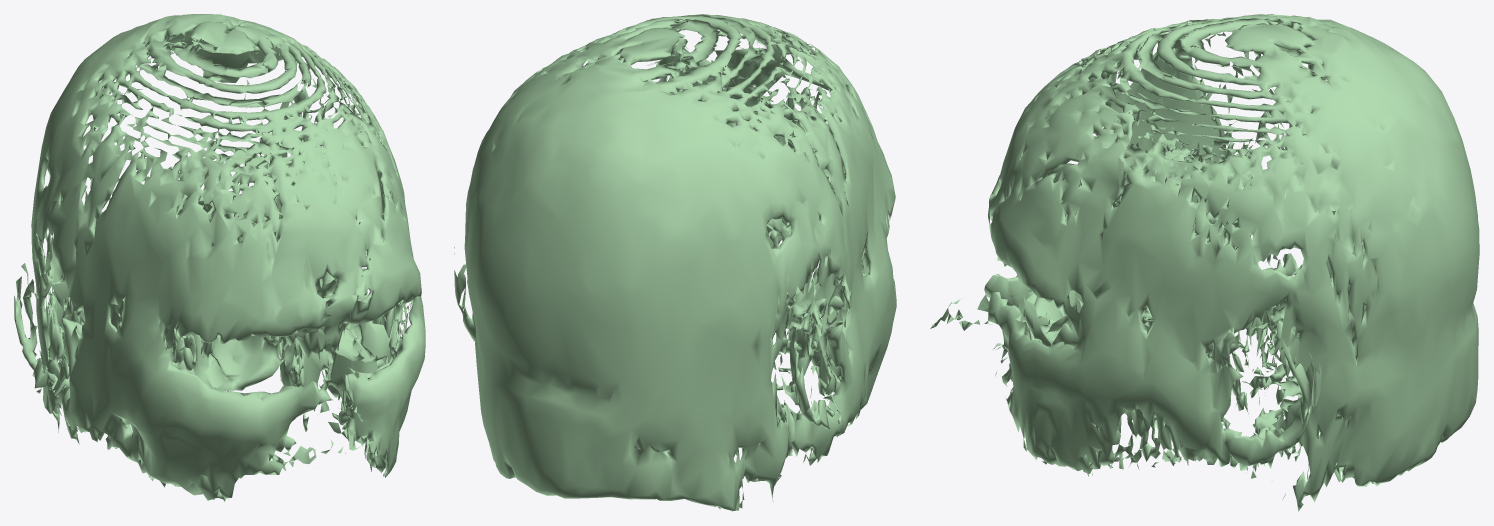
Rendered from Segmentation.gltf.
The picture shows the model from 3 angles, left to right: view 1: azimuth 30°, elevation 25°; view 2: azimuth 150°, elevation 25°; view 3: azimuth 270°, elevation 25°; orthographic projection. The views are drawn at different scales.
Visible parts, largest first — view 1: Segment_1; view 2: Segment_1; view 3: Segment_1.
Boxes of the visible parts, x1,y1,x2,y2 form: Segment_1: (14,14,425,501); Segment_1: (454,14,896,511); Segment_1: (930,14,1479,511).
Bounding box in the file's own units: 181 × 197 × 233.
